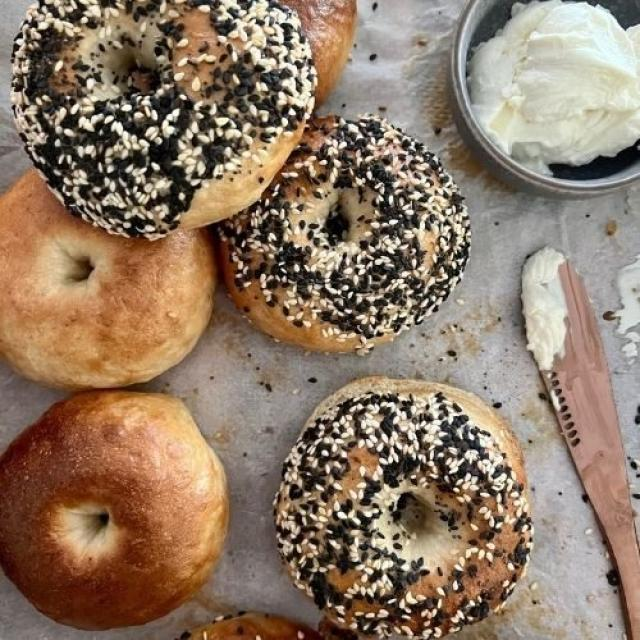Bagel: (11, 0, 316, 239), (275, 378, 532, 638), (218, 115, 470, 352), (0, 390, 229, 629), (0, 170, 218, 389)
